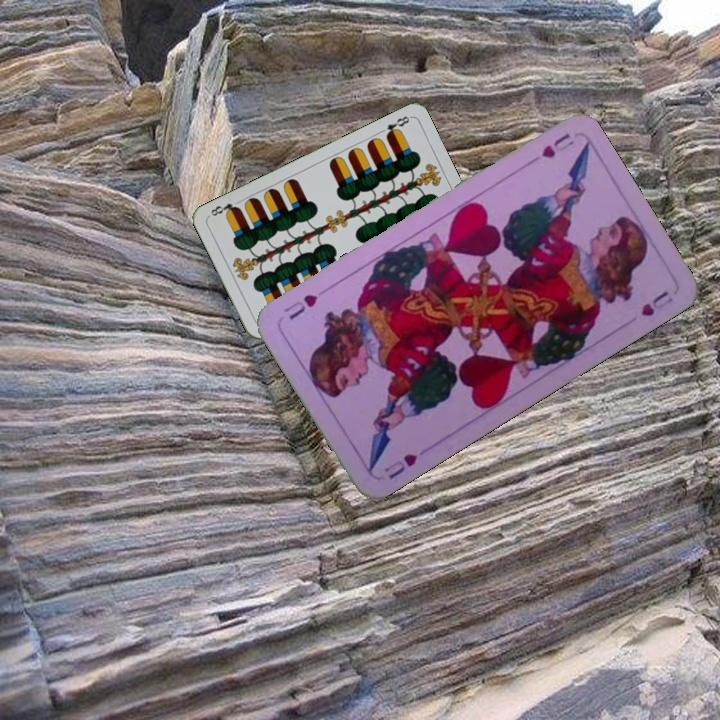E8: (382, 112, 413, 140)
HU: (380, 449, 421, 483), (537, 129, 577, 161)
